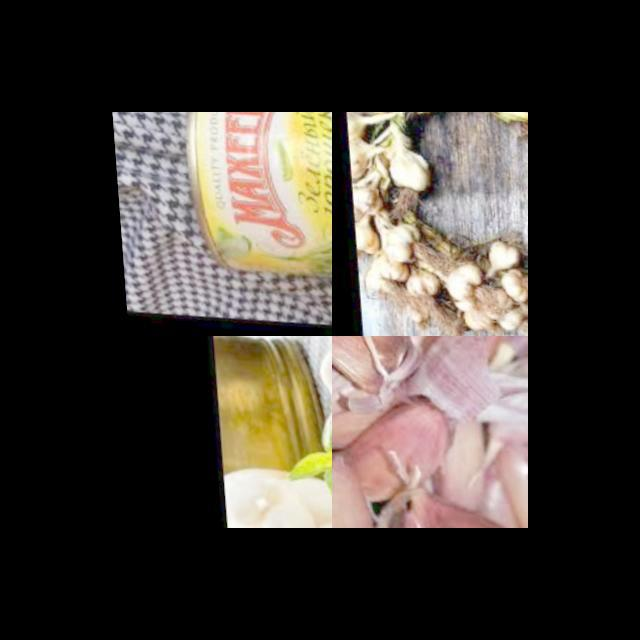garlic: (332, 336, 528, 528), (350, 212, 528, 336), (342, 112, 428, 240), (216, 470, 332, 528)
